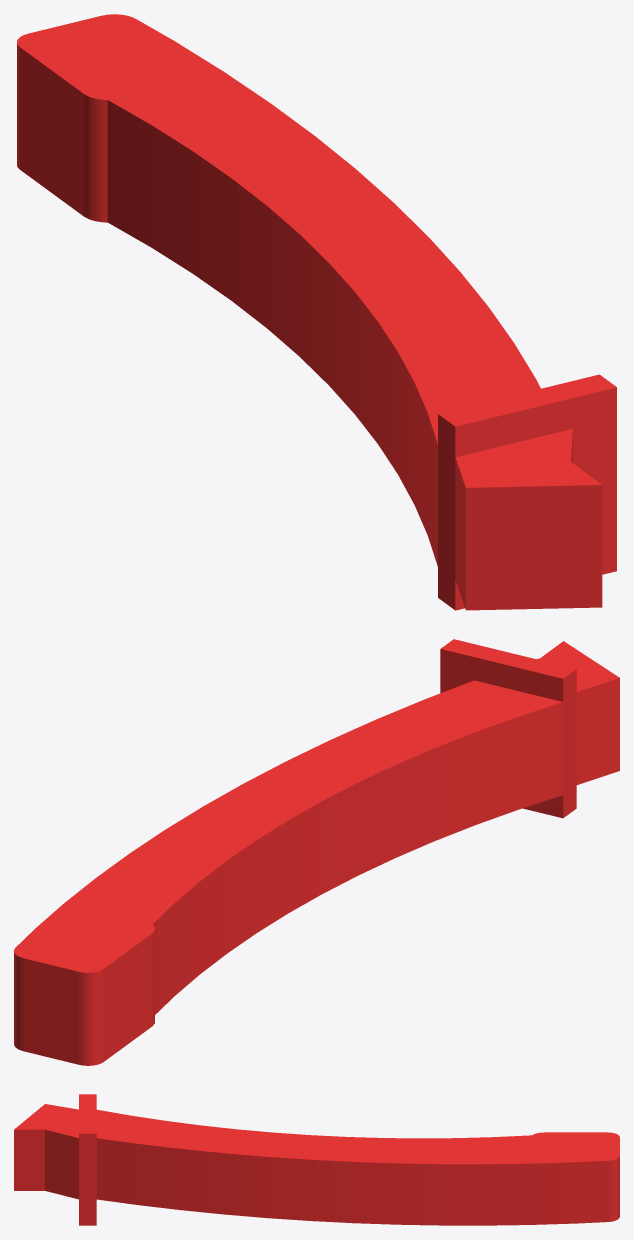
The model's file is original-1.obj.
The picture shows the model from 3 angles, top to bottom: view 1: azimuth 30°, elevation 25°; view 2: azimuth 150°, elevation 25°; view 3: azimuth 270°, elevation 25°; orthographic projection. The views are drawn at different scales.
Parts seen in each view (by area): view 1: Component_1_1/Component_1/mesh1/mesh1-geometry#mesh1-geometry; view 2: Component_1_1/Component_1/mesh1/mesh1-geometry#mesh1-geometry; view 3: Component_1_1/Component_1/mesh1/mesh1-geometry#mesh1-geometry.
Part boxes in pixels (x1,y1,x2,y2): Component_1_1/Component_1/mesh1/mesh1-geometry#mesh1-geometry: (17,14,616,610); Component_1_1/Component_1/mesh1/mesh1-geometry#mesh1-geometry: (14,639,619,1065); Component_1_1/Component_1/mesh1/mesh1-geometry#mesh1-geometry: (14,1094,619,1225).
Bounding box in the file's own units: 0.2614 × 0.1855 × 1.11.
